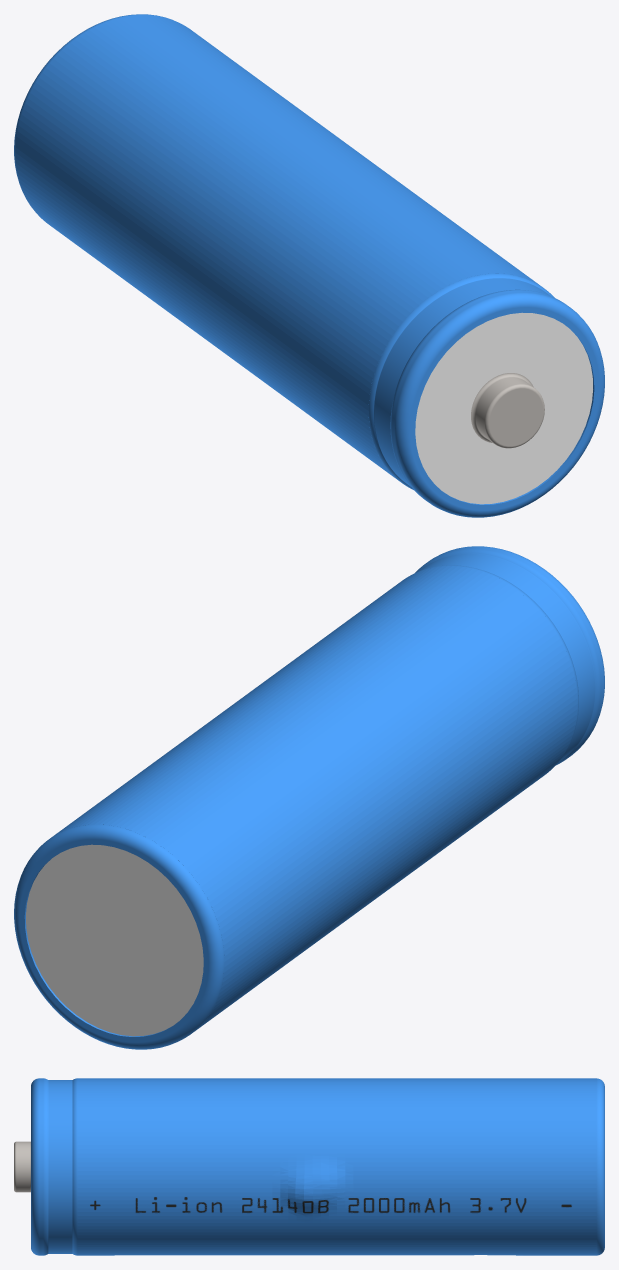
Rendered from defect_4.glb.
3 renders of one model, top to bottom at view 1: azimuth 30°, elevation 25°; view 2: azimuth 150°, elevation 25°; view 3: azimuth 270°, elevation 25°, orthographic. The views are drawn at different scales.
Parts seen in each view (by area): view 1: Cylinder, Cell_Top; view 2: Cylinder, Cell_bottom, Cell_Top; view 3: Cylinder, Cell_Top, Cell_bottom.
Part boxes in pixels (x1,y1,x2,y2): Cylinder: (15, 15, 550, 480); Cell_Top: (368, 273, 604, 517); Cylinder: (41, 566, 577, 1031); Cell_bottom: (14, 824, 224, 1049); Cell_Top: (415, 546, 604, 765); Cylinder: (77, 1078, 596, 1255); Cell_Top: (14, 1078, 77, 1255); Cell_bottom: (596, 1078, 604, 1255).
Size of the model in its own units: 0.0218 by 0.021 by 0.07.
Materials: 10 (1 with a texture image).
